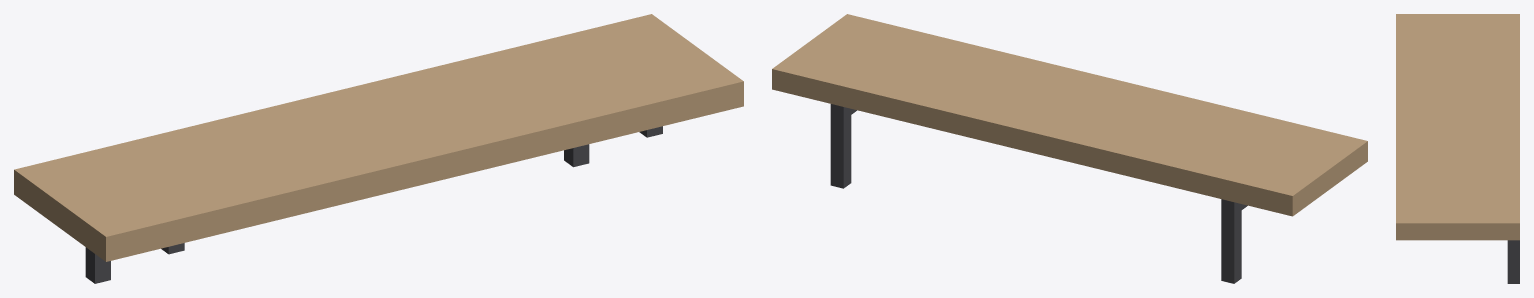
The model's file is own_shelf_wall.glb.
3 renders of one model, left to right at view 1: azimuth 30°, elevation 25°; view 2: azimuth 150°, elevation 25°; view 3: azimuth 270°, elevation 25°, orthographic. The views are drawn at different scales.
Parts seen in each view (by area): view 1: model; view 2: model; view 3: model.
Boxes of the visible parts, box(x1,y1,x2,y2) form: model: box(14, 14, 743, 283); model: box(772, 14, 1367, 283); model: box(1396, 14, 1519, 283).
Size of the model in its own units: 0.8 by 0.15 by 0.2.
